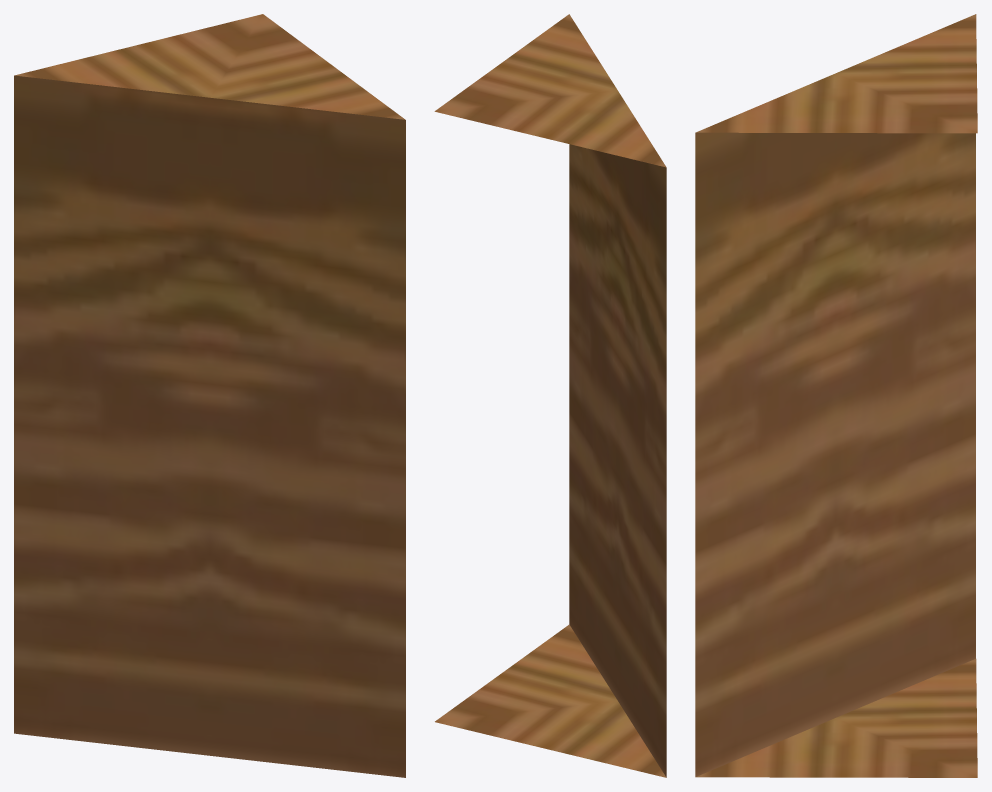
The model's file is Corner_Exterior_TopOnly.glb.
3 views of the same model, side by side, from view 1: azimuth 30°, elevation 25°; view 2: azimuth 150°, elevation 25°; view 3: azimuth 270°, elevation 25° (orthographic). The views are drawn at different scales.
Parts seen in each view (by area): view 1: Corner_Exterior_TopOnly; view 2: Corner_Exterior_TopOnly; view 3: Corner_Exterior_TopOnly.
Boxes of the visible parts, bbox=[...] form: Corner_Exterior_TopOnly: bbox=[14, 14, 405, 777]; Corner_Exterior_TopOnly: bbox=[434, 14, 666, 777]; Corner_Exterior_TopOnly: bbox=[695, 14, 977, 777].
Bounding box in the file's own units: 0.0928 × 0.2335 × 0.0928.
Materials: 1 (1 with a texture image).
